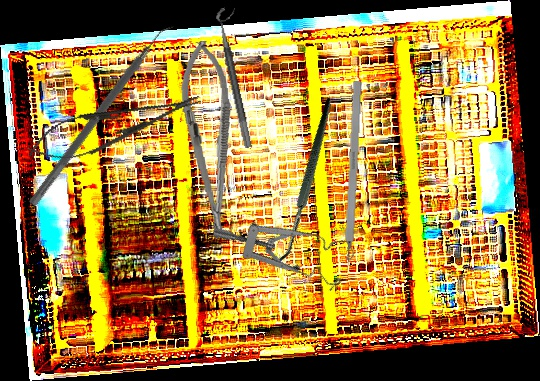Fixation Ring: (214, 5, 264, 149)
Hook Surgical: (221, 95, 401, 279), (342, 80, 363, 281)
Needle Holder: (21, 79, 208, 173), (175, 39, 243, 241)
Spatula Surgical: (27, 15, 179, 214)
Speculum: (210, 173, 363, 315)
